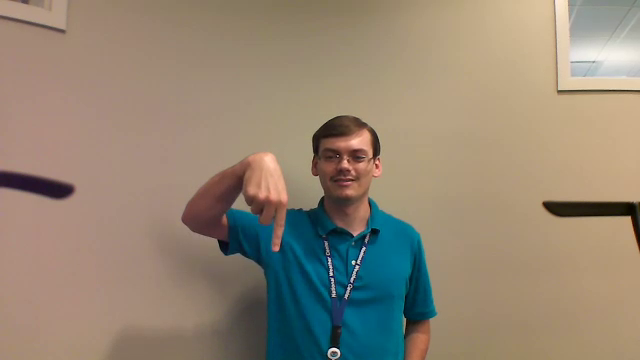down: (227, 148, 300, 265)
